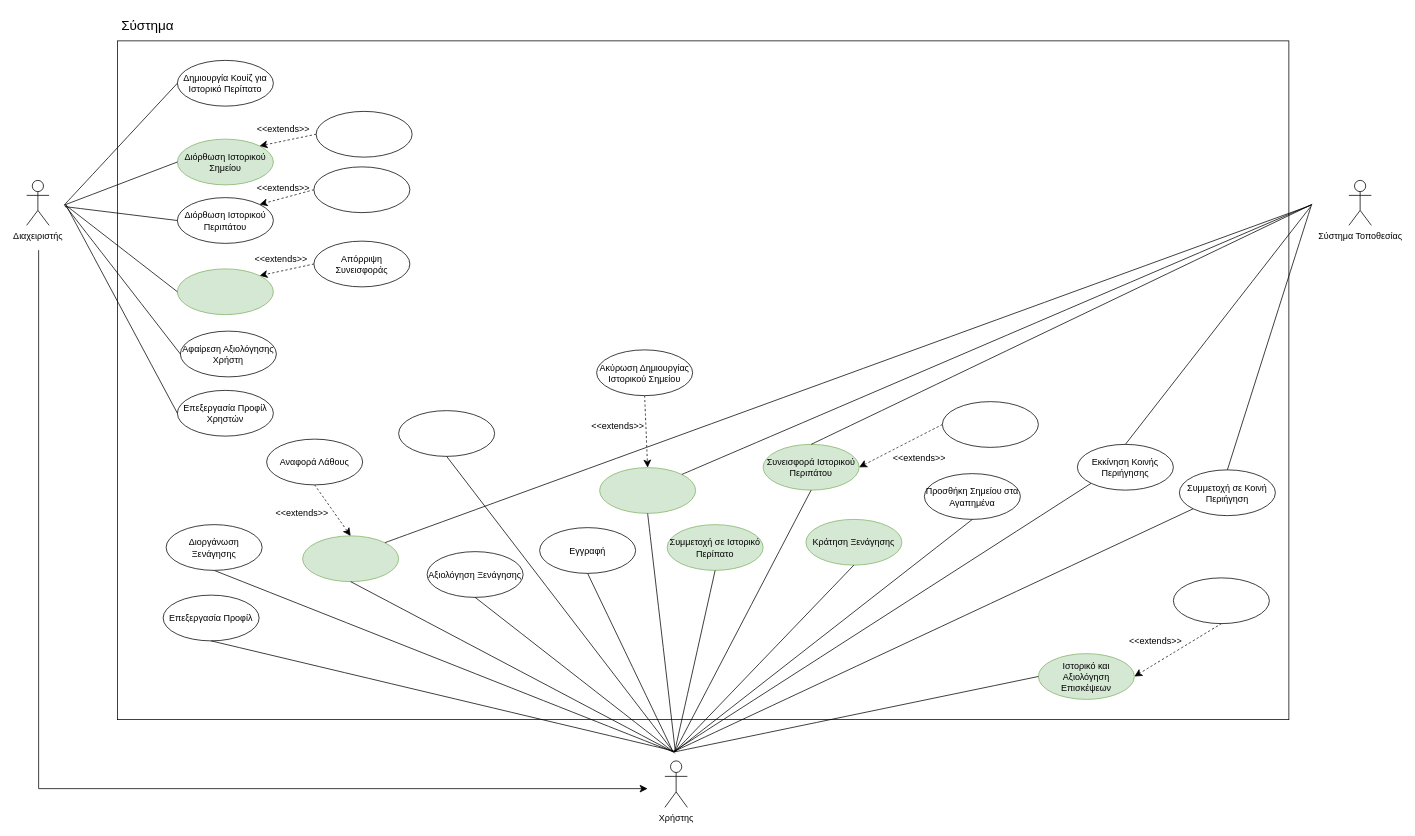
Image size: 1415x836. Some labels were removed from this diagram. Here are the shapes that lost their labels. From the top down, the centre of each, then its label:
At [363,134]: "Διαγραφή Ιστορικού Σημείου".
At [361,189]: "Διαγραφή Ιστορικού Περιπάτου".
At [225,291]: "Έγκριση Συνεισφοράς Χρήστη".
At [446,433]: "Σύνδεση".
At [990,424]: "Ακύρωση Δημιουργίας Ιστορικού Περιπάτου".
At [647,490]: "Συνεισφορά Ιστορικού Σημείου".
At [350,558]: "Επίσκεψη Ιστορικού Σημείου".
At [1221,600]: "Εμφάνιση Προτεινόμενων".
